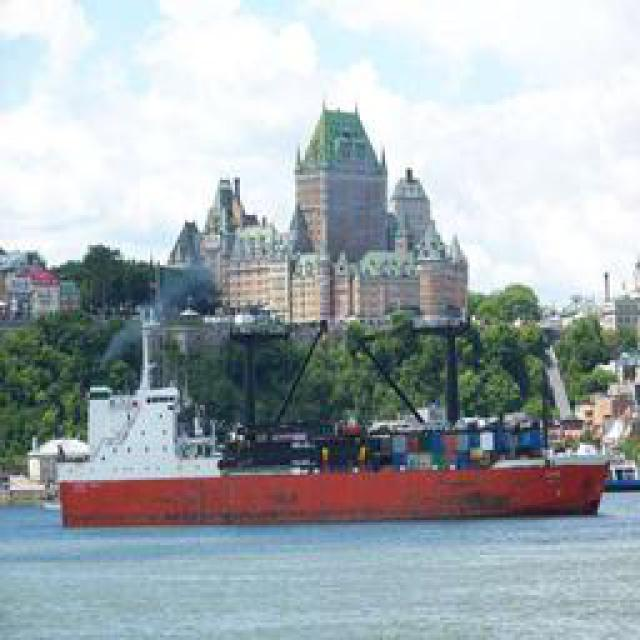Ship: (64, 414, 589, 529)
